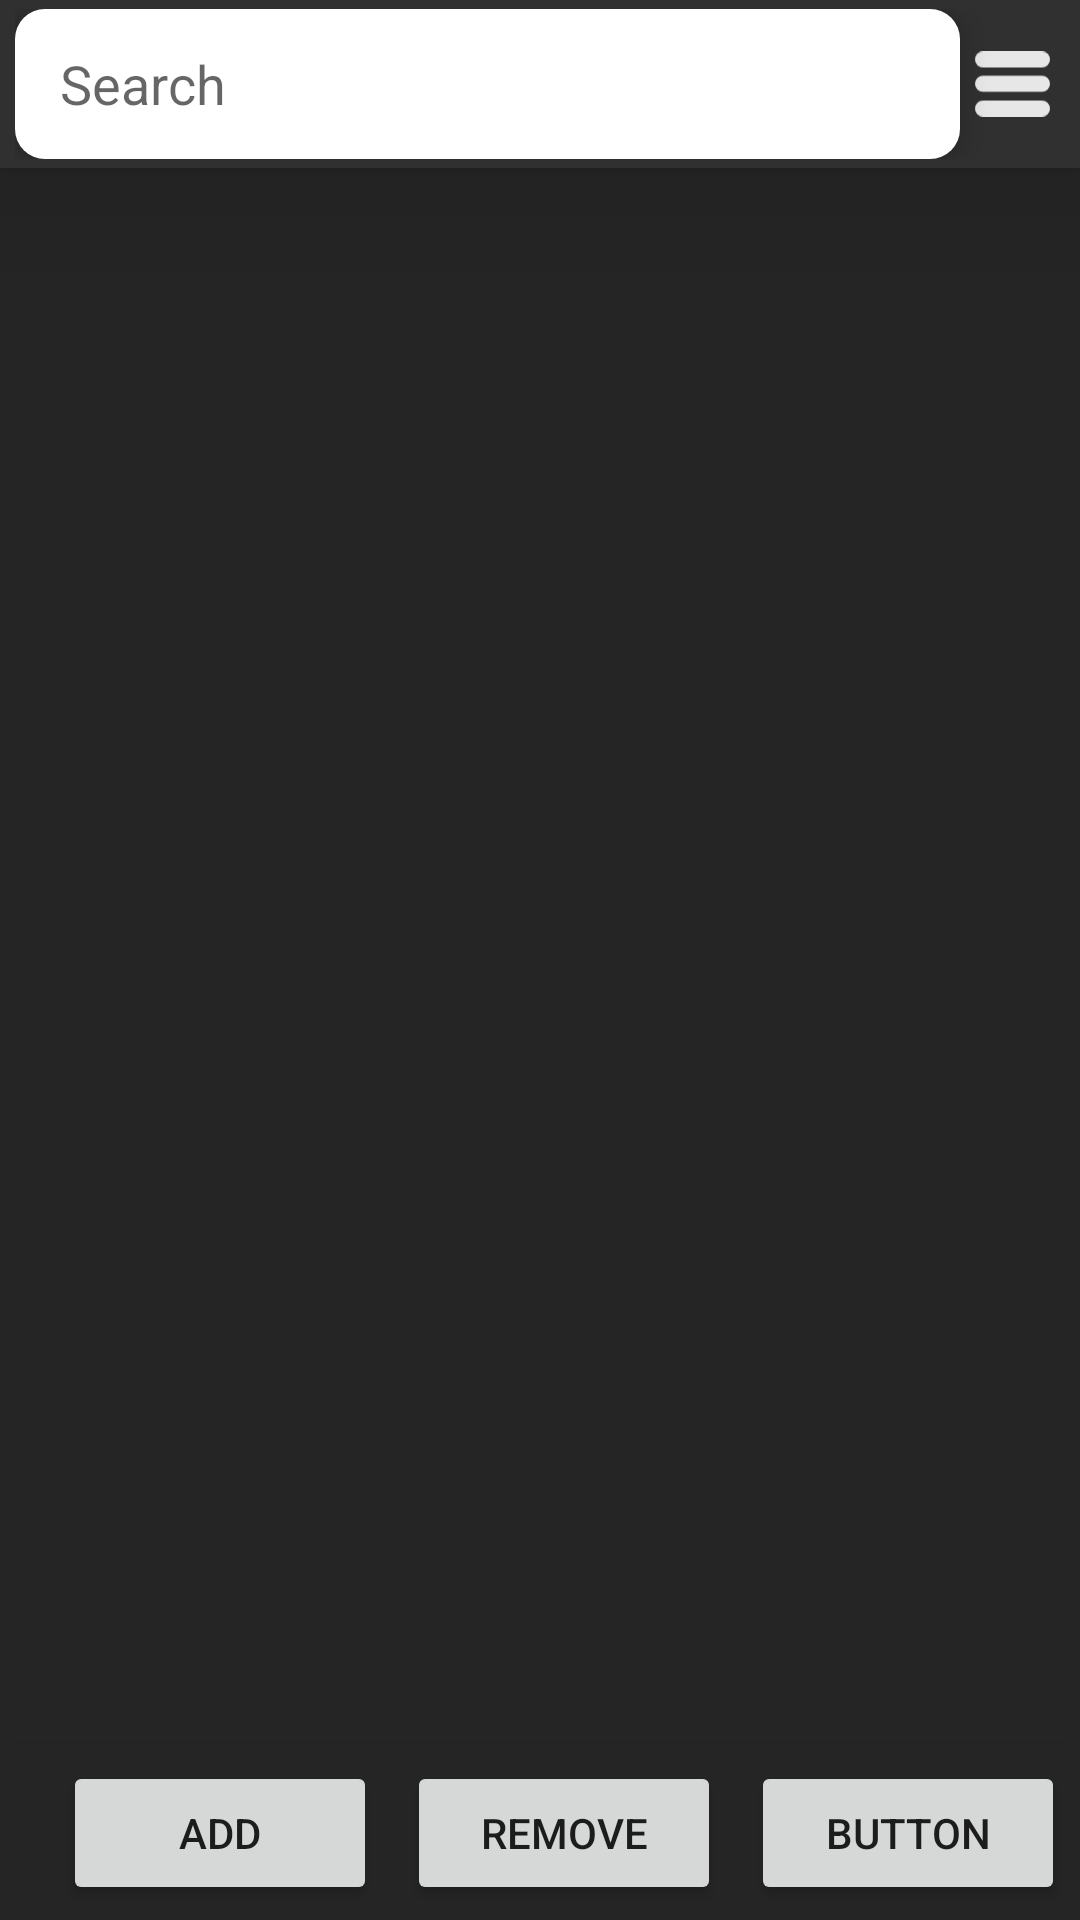

Where icons sit on this 1080*1920 app screen, as [x1, y1, x2, y2]:
gamburger: [975, 51, 1050, 117]
